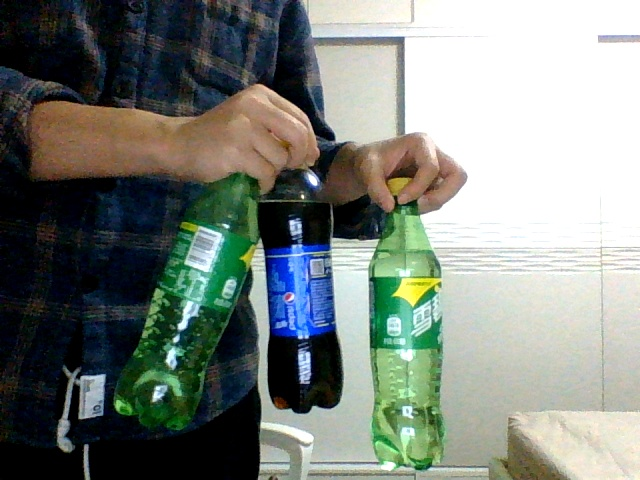Cola: (256, 166, 343, 410)
Sprite: (113, 173, 257, 428), (367, 177, 445, 470)
